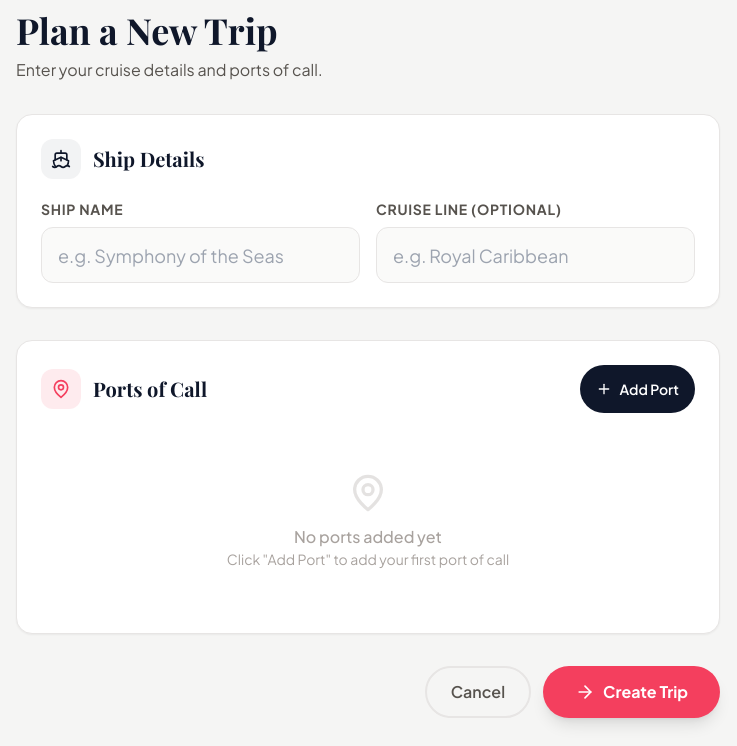
Test case: TripSetup — lat/lng hidden from UI › name, country, arrival, and departure are visible in port entry
What coordinates should you click on to do the following:
click the button with test id "add-port-btn"
I would click on:
 (637, 389)
Its box is [580,365,695,413].
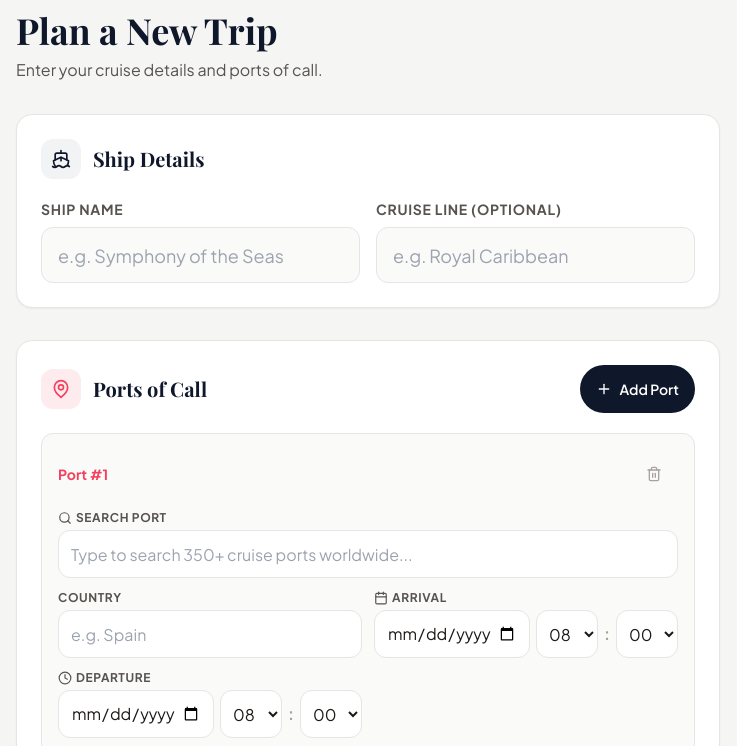
Check: the field with test id "port-name-0" is shown, box [58,530,678,578]
Check: the field with test id "port-country-0" is shown, box [58,610,362,658]
Check: the element with test id "port-arrival-0" is shown, box [374,610,678,658]
